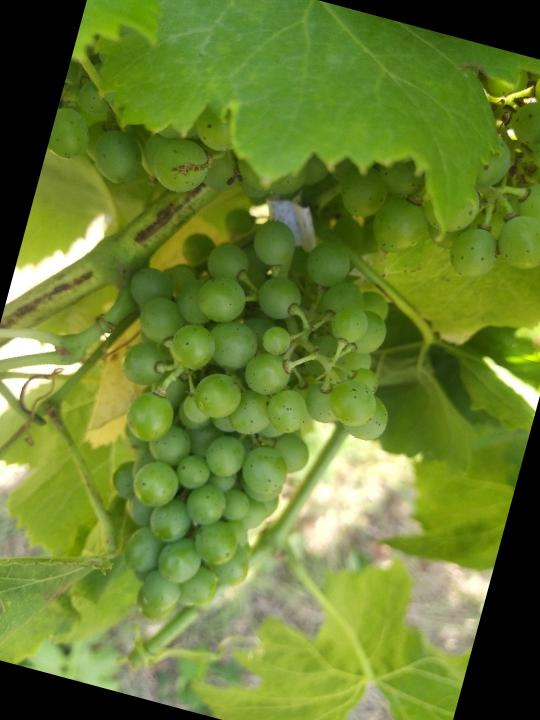grape: (48, 183, 436, 672)
